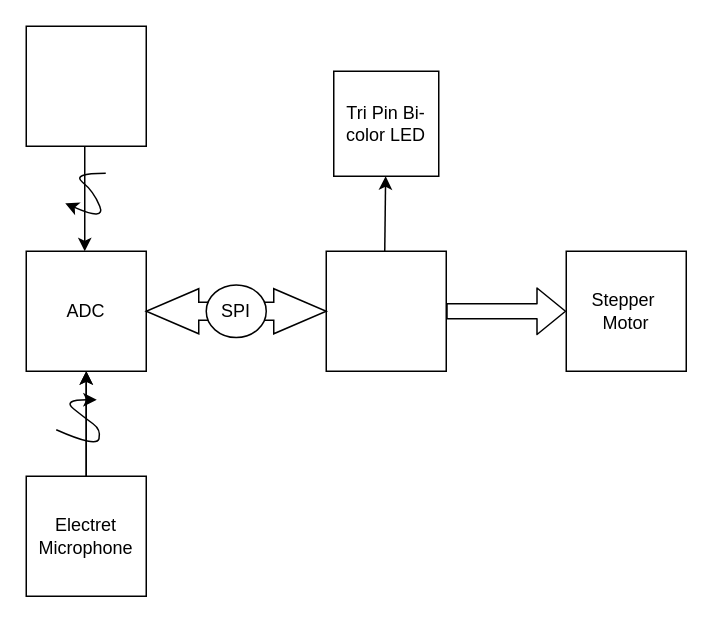
The diagram is 713 pixels wide and 623 high, and some of its shapes have lost their labels. The box of each missing label's shape, as (x1, y1, x2, y2) in pixels:
Infrared Sensor: (25, 25, 146, 146)
RaspberryPi: (325, 250, 446, 371)
